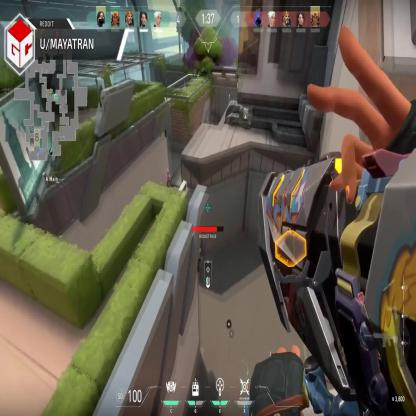enemy: (164, 167, 172, 192)
enemy_head: (167, 168, 169, 173)
